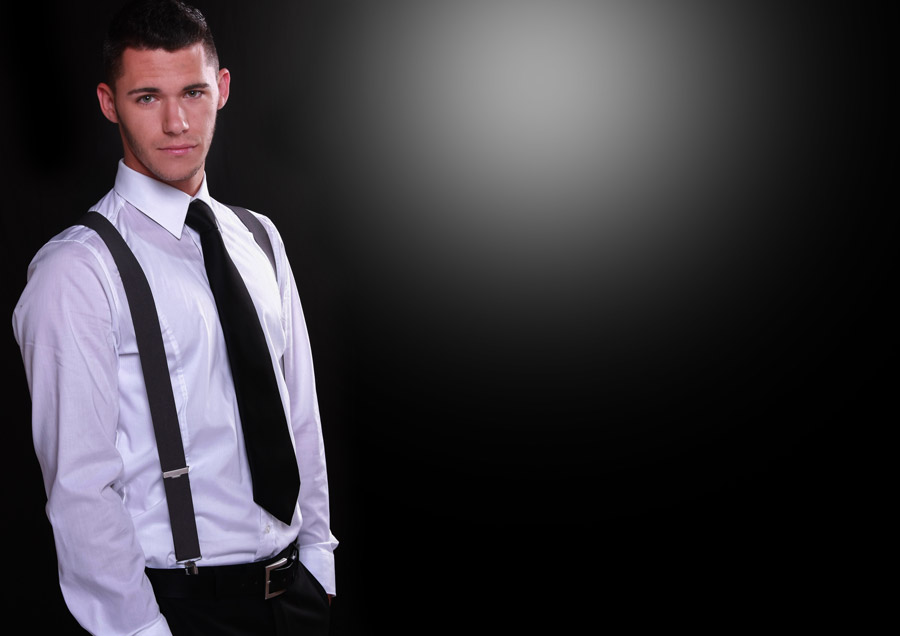male: (7, 1, 340, 636)
